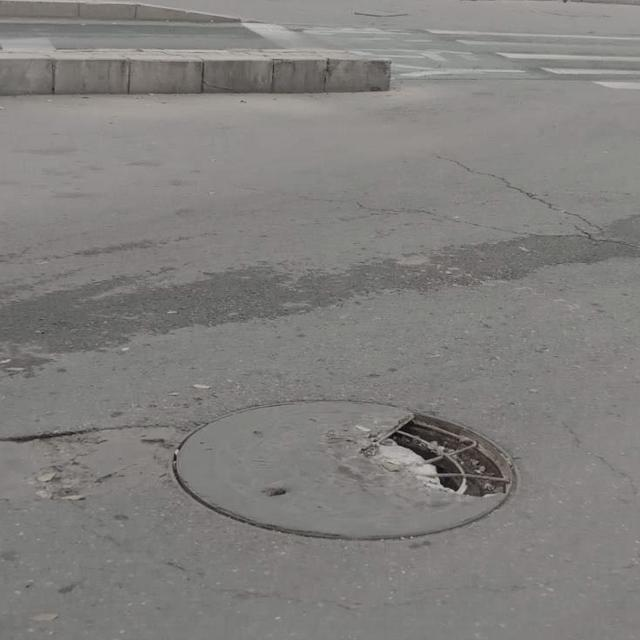broke: (173, 399, 518, 538)
